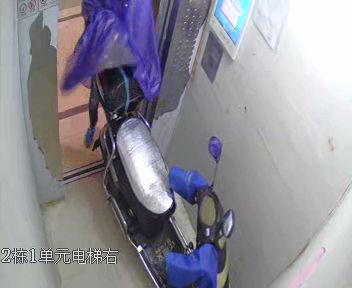Electric-bicycle: (101, 90, 234, 283)
